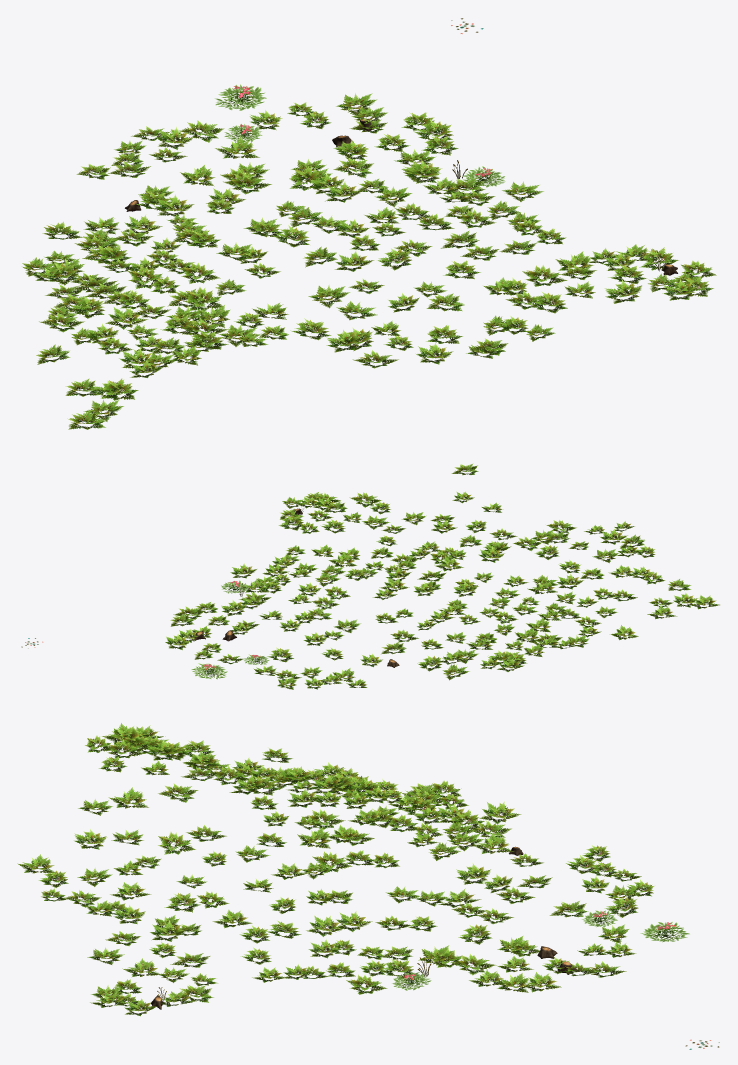
The model's file is Ferns_06.fbx.
The picture shows the model from 3 angles, top to bottom: view 1: azimuth 30°, elevation 25°; view 2: azimuth 150°, elevation 25°; view 3: azimuth 270°, elevation 25°; orthographic projection. The views are drawn at different scales.
Parts seen in each view (by area): view 1: Ferns_06; view 2: Ferns_06; view 3: Ferns_06.
Boxes of the visible parts, x1,y1,x2,y2 form: Ferns_06: (22,18,716,429); Ferns_06: (21,463,719,689); Ferns_06: (17,723,719,1049).
Size of the model in its own units: 8721 by 902 by 8096.
